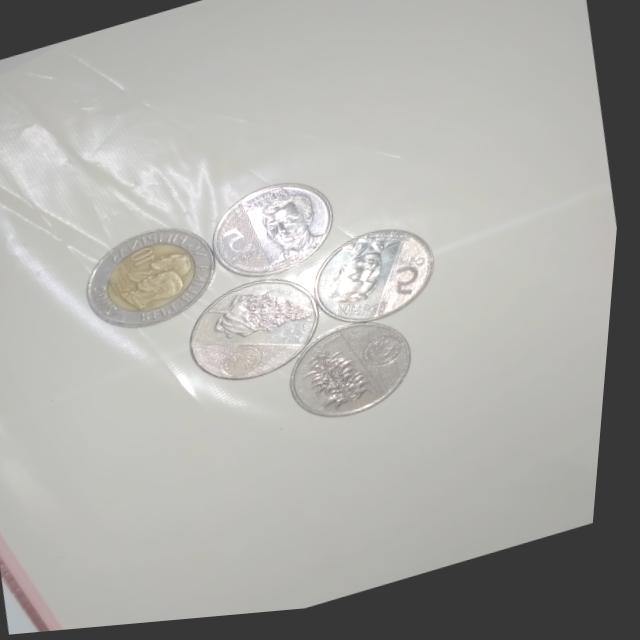10_New_Back: (207, 277, 329, 395)
10_Old_Front: (84, 213, 232, 344)
5_New_Front: (319, 231, 438, 332)
